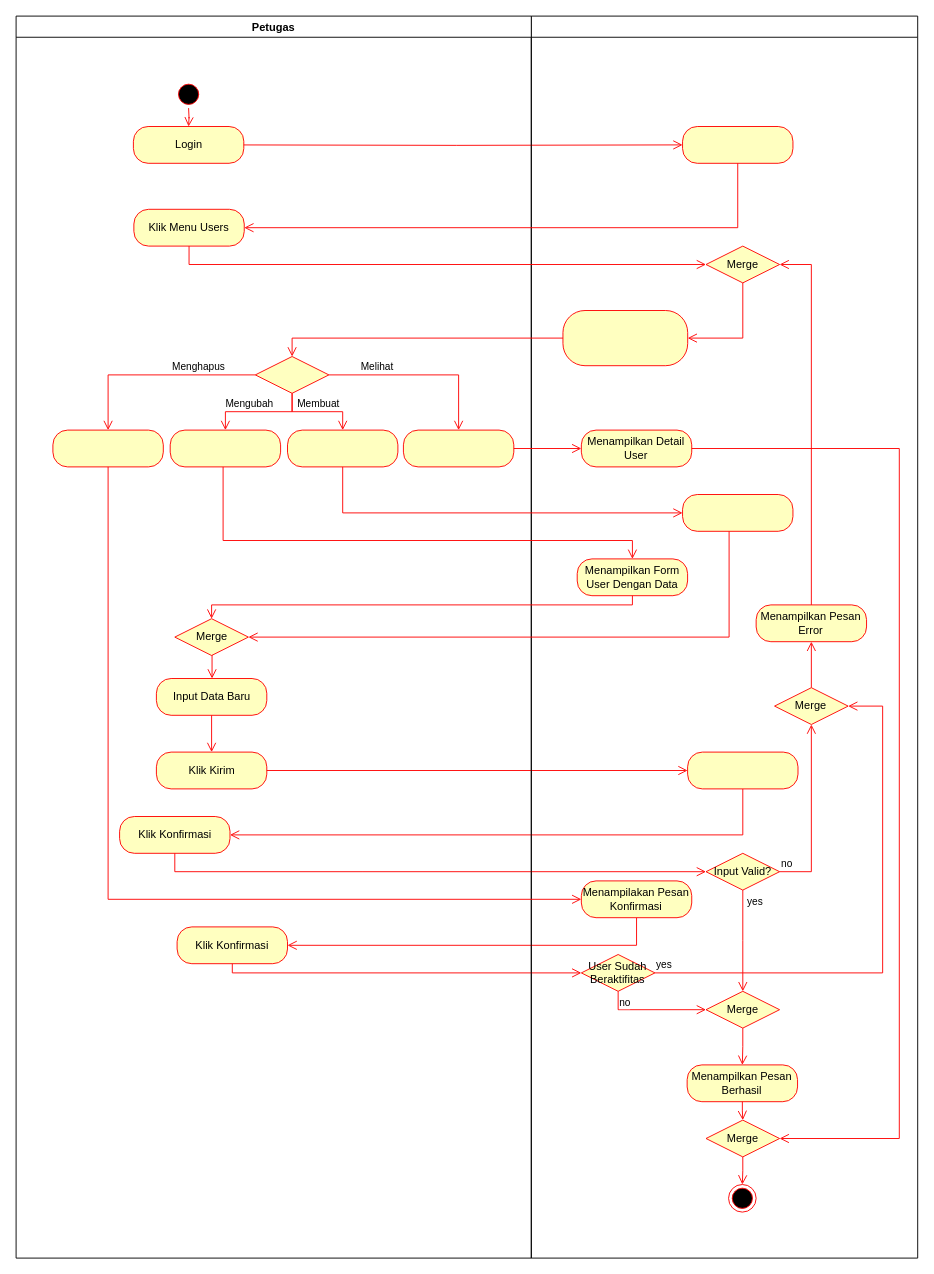
The diagram is 934 pixels wide and 1274 high, and some of its shapes have lost their labels. Here are the shapes that lost their labels. From the top down, the box of each, then its label:
(682, 126, 793, 163): Menampilkan Dashboard Admin
(562, 310, 688, 366): Menampilkan Halaman Users Dengan Role Customer dan Daftar Users Customer
(254, 356, 329, 393): Kegiatan?
(52, 429, 163, 467): Klik Tombol Hapus
(169, 429, 281, 467): Klik Tombol Edit
(287, 429, 398, 467): Klik Tombol Tambah User
(402, 429, 514, 467): Klik Tombol Detail
(682, 494, 793, 531): Menampilkan Form User
(530, 15, 918, 1258): Sistem
(687, 751, 798, 789): Menampilkan Konfirmasi
